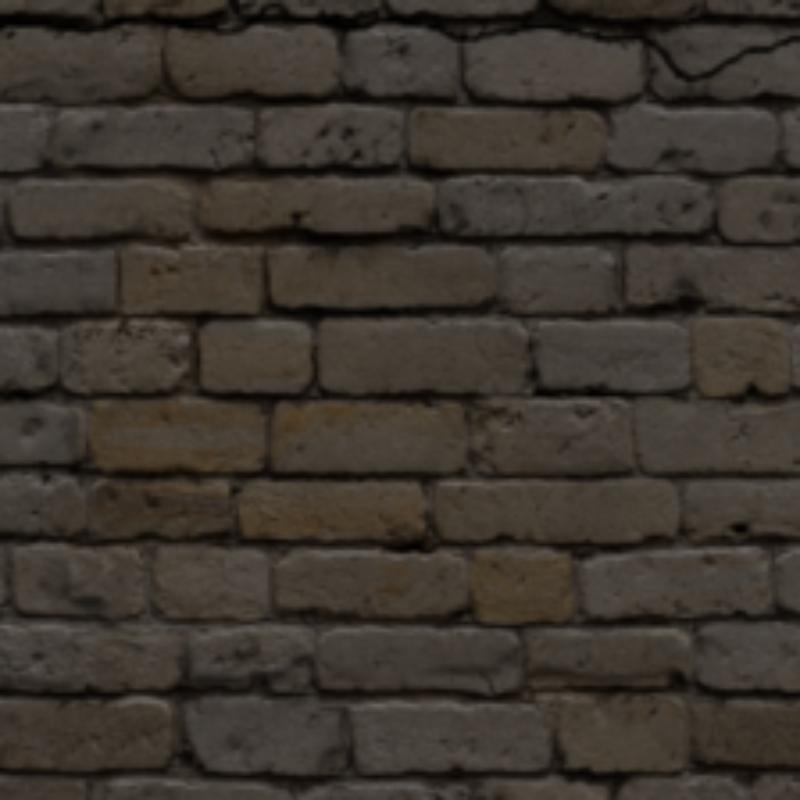pothole: (407, 14, 796, 82)
